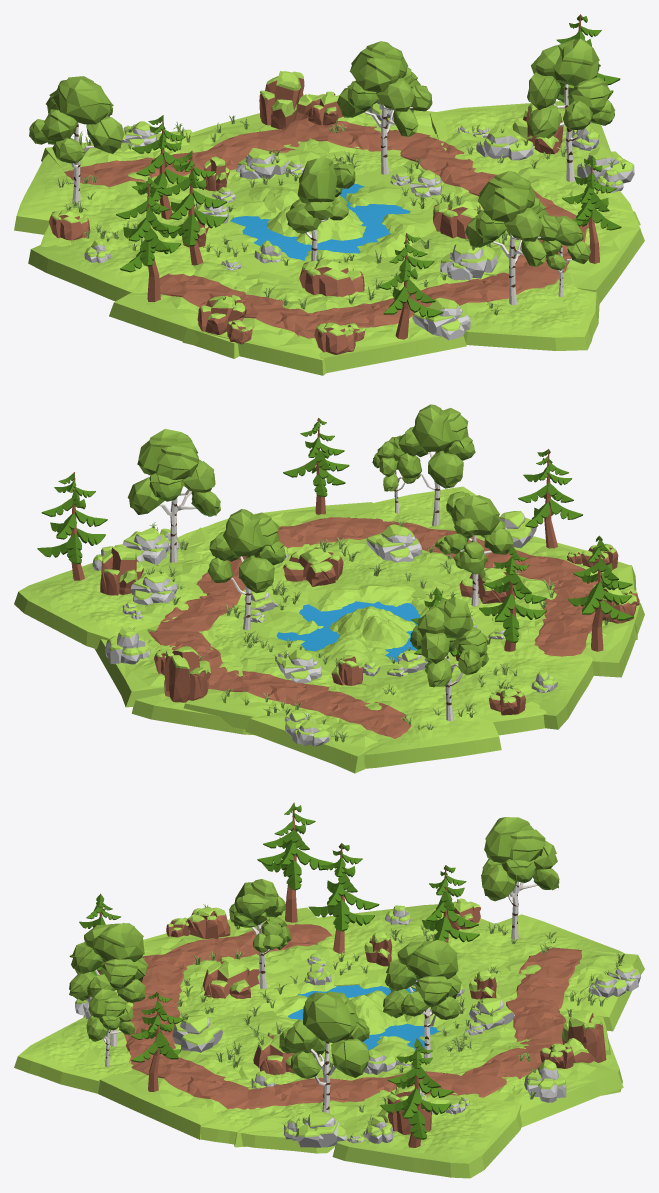
File: TestScene.glb
3 views of the same model, one above another, from view 1: azimuth 30°, elevation 25°; view 2: azimuth 150°, elevation 25°; view 3: azimuth 270°, elevation 25° (orthographic). The views are drawn at different scales.
Parts seen in each view (by area): view 1: PP_Lake_Ground_04, PP_Birch_Tree_06__1_, PP_Meadow_Path_05__11_, PP_Meadow_08, PP_Meadow_07__2_, PP_Meadow_Path_05__2_, PP_Meadow_Path_05__9_, PP_Birch_Tree_06__3_, PP_Birch_Tree_06__2_, PP_Birch_Tree_06, PP_Meadow_08__5_, PP_Meadow_Path_05__7_ (+37 smaller); view 2: PP_Lake_Ground_04, PP_Meadow_07, PP_Meadow_Path_05__3_, PP_Meadow_08__5_, PP_Birch_Tree_06__1_, PP_Meadow_08, PP_Meadow_Path_05__6_, PP_Meadow_Path_05__11_, PP_Birch_Tree_06__3_, PP_Birch_Tree_06__2_, PP_Birch_Tree_06, PP_Meadow_Path_05__7_ (+36 smaller); view 3: PP_Meadow_07, PP_Meadow_Path_05__7_, PP_Meadow_Path_05__1_, PP_Birch_Tree_06__1_, PP_Lake_Ground_04, PP_Meadow_Path_05__3_, PP_Birch_Tree_06__2_, PP_Birch_Tree_06, PP_Birch_Tree_06__3_, PP_Meadow_Path_05__5_, PP_Meadow_07__2_, PP_Meadow_08__5_ (+37 smaller).
Boxes of the visible parts, x1=… form: PP_Lake_Ground_04: x1=195, y1=157, x2=440, y2=277; PP_Birch_Tree_06__1_: x1=527, y1=38, x2=615, y2=181; PP_Meadow_Path_05__11_: x1=109, y1=261, x2=279, y2=358; PP_Meadow_08: x1=28, y1=217, x2=260, y2=301; PP_Meadow_07__2_: x1=463, y1=282, x2=599, y2=350; PP_Meadow_Path_05__2_: x1=182, y1=271, x2=373, y2=375; PP_Meadow_Path_05__9_: x1=282, y1=285, x2=466, y2=372; PP_Birch_Tree_06__3_: x1=465, y1=171, x2=560, y2=305; PP_Birch_Tree_06__2_: x1=337, y1=41, x2=432, y2=174; PP_Birch_Tree_06: x1=29, y1=76, x2=124, y2=203; PP_Meadow_08__5_: x1=14, y1=153, x2=203, y2=234; PP_Meadow_Path_05__7_: x1=483, y1=223, x2=644, y2=303; PP_Lake_Ground_04: x1=214, y1=581, x2=503, y2=685; PP_Meadow_07: x1=14, y1=560, x2=206, y2=649; PP_Meadow_Path_05__3_: x1=245, y1=679, x2=414, y2=773; PP_Meadow_08__5_: x1=328, y1=683, x2=501, y2=768; PP_Birch_Tree_06__1_: x1=127, y1=428, x2=220, y2=562; PP_Meadow_08: x1=448, y1=640, x2=593, y2=729; PP_Meadow_Path_05__6_: x1=183, y1=657, x2=332, y2=729; PP_Meadow_Path_05__11_: x1=485, y1=603, x2=644, y2=677; PP_Birch_Tree_06__3_: x1=396, y1=404, x2=475, y2=525; PP_Birch_Tree_06__2_: x1=207, y1=509, x2=286, y2=630; PP_Birch_Tree_06: x1=410, y1=597, x2=488, y2=721; PP_Meadow_Path_05__7_: x1=253, y1=502, x2=385, y2=563; PP_Meadow_07: x1=332, y1=1090, x2=522, y2=1178; PP_Meadow_Path_05__7_: x1=98, y1=1043, x2=277, y2=1139; PP_Meadow_Path_05__1_: x1=447, y1=1038, x2=623, y2=1127; PP_Birch_Tree_06__1_: x1=279, y1=991, x2=369, y2=1113; PP_Lake_Ground_04: x1=234, y1=966, x2=479, y2=1069; PP_Meadow_Path_05__3_: x1=495, y1=947, x2=644, y2=1031; PP_Birch_Tree_06__2_: x1=383, y1=940, x2=461, y2=1062; PP_Birch_Tree_06: x1=481, y1=817, x2=559, y2=939; PP_Birch_Tree_06__3_: x1=69, y1=922, x2=148, y2=1046; PP_Meadow_Path_05__5_: x1=234, y1=1068, x2=367, y2=1147; PP_Meadow_07__2_: x1=14, y1=1017, x2=133, y2=1093; PP_Meadow_08__5_: x1=455, y1=914, x2=637, y2=1000.
Bounding box in the file's own units: 132 × 35.55 × 132.
Materials: 1 (1 with a texture image).
